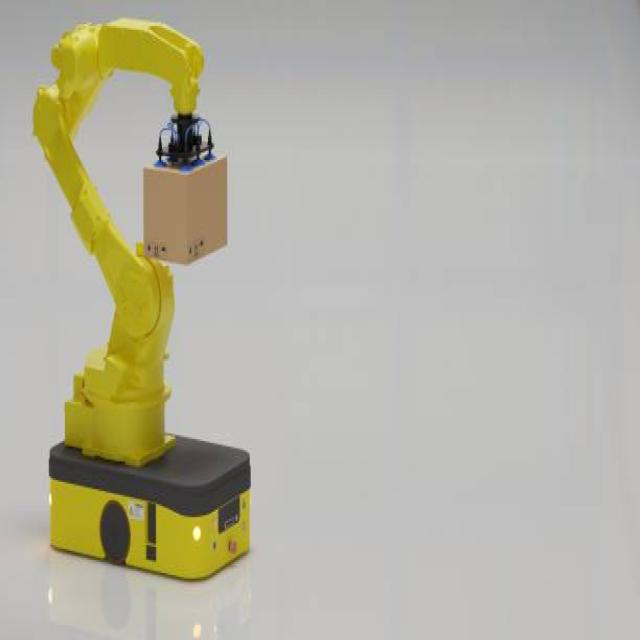Robotic-arm: (26, 8, 234, 470)
